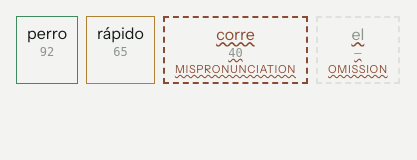
Scenario: PronunciationHeatmap › clicking a word reveals phoneme chips with accuracy; click again collapses
Step 1. Click the button with aria-label "perro, 92" → (47, 50), box [16,16,78,84]
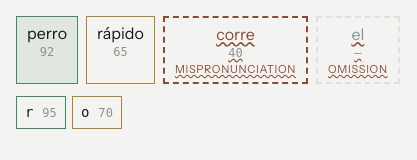
Result: the list named "Phonemes for perro" shows "r" at [25,104,34,120]
Result: the list named "Phonemes for perro" shows "95" at [42,106,57,120]
Result: the list named "Phonemes for perro" shows "70" at [98,106,113,120]
Step 2. Click the button with aria-label "perro, 92" → (47, 50), box [16,16,78,84]
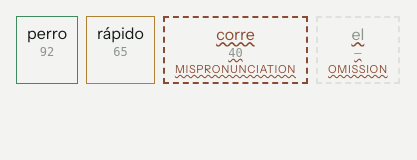
Result: the list is gone
